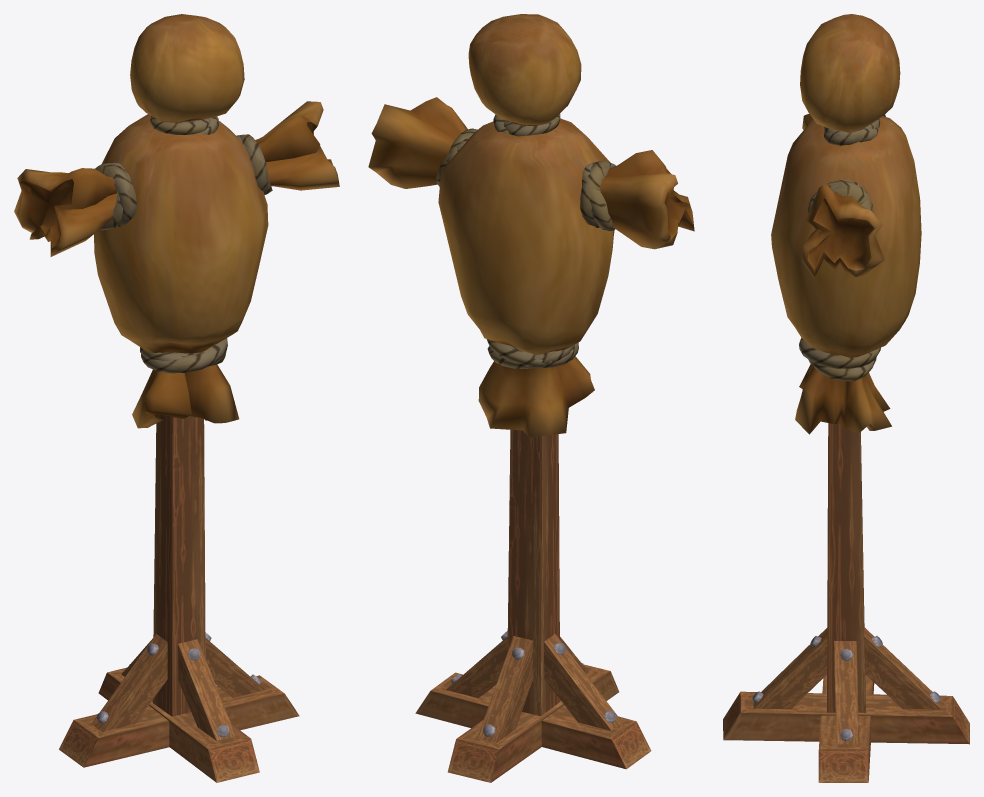
File: Dummy.glb
3 views of the same model, side by side, from view 1: azimuth 30°, elevation 25°; view 2: azimuth 150°, elevation 25°; view 3: azimuth 270°, elevation 25° (orthographic).
Parts seen in each view (by area): view 1: Dummy; view 2: Dummy; view 3: Dummy.
Boxes of the visible parts, <box> form: Dummy: <box>14,14,339,782</box>; Dummy: <box>368,14,694,782</box>; Dummy: <box>723,14,969,782</box>.
Bounding box in the file's own units: 0.8085 × 1.86 × 0.5846.
Materials: 3 (3 with a texture image).
